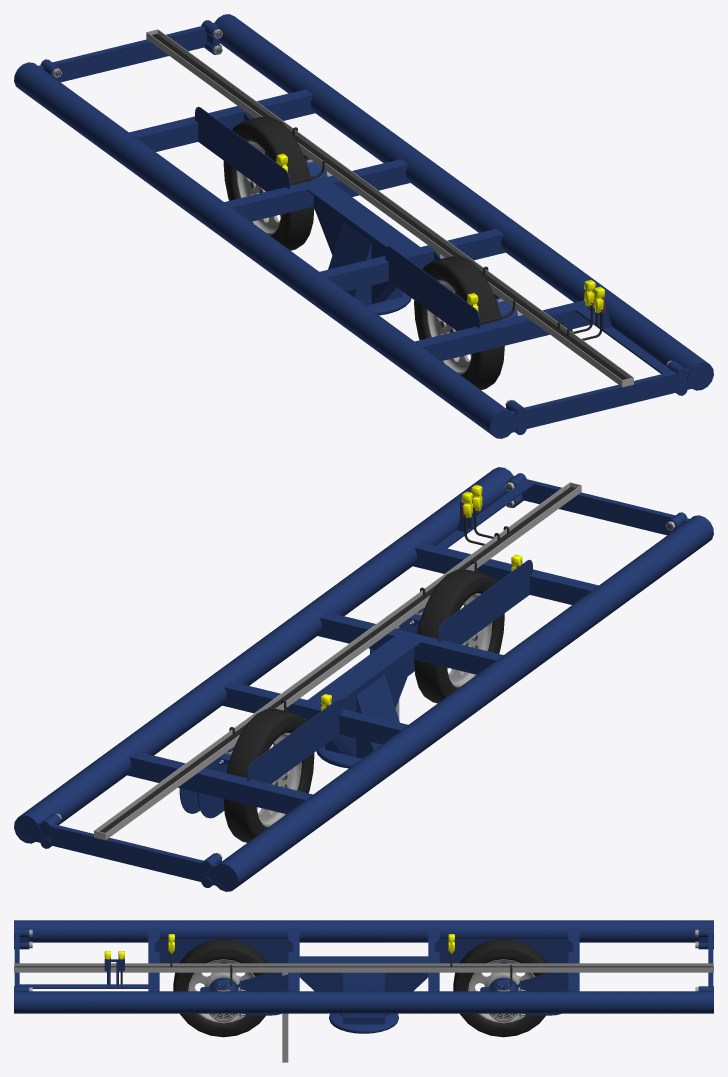
File: Transport (Start Sensor).dae
3 renders of one model, top to bottom at view 1: azimuth 30°, elevation 25°; view 2: azimuth 150°, elevation 25°; view 3: azimuth 270°, elevation 25°, orthographic. The views are drawn at different scales.
Visible parts, largest first — view 1: Track (×7), Mid_Detail (×4), High_Detail (×3), wheel0, wheel1; view 2: Track (×7), Mid_Detail (×4), High_Detail (×4), wheel0, wheel1; view 3: Track (×10), Mid_Detail (×4), High_Detail (×4), wheel0 (×3), wheel1 (×3).
Boxes of the visible parts, box(x1,y1,x2,y2) form: Track (×7): box(14, 14, 713, 438); Mid_Detail (×4): box(146, 29, 633, 387); High_Detail (×3): box(153, 33, 672, 379); wheel0: box(414, 256, 504, 389); wheel1: box(223, 116, 314, 250); Track (×7): box(14, 467, 713, 891); Mid_Detail (×4): box(94, 482, 581, 840); High_Detail (×4): box(100, 481, 574, 832); wheel0: box(414, 569, 504, 703); wheel1: box(223, 709, 314, 842); Track (×10): box(14, 920, 713, 1033); Mid_Detail (×4): box(14, 939, 713, 1062); High_Detail (×4): box(14, 959, 713, 1016); wheel0 (×3): box(173, 939, 269, 1037); wheel1 (×3): box(453, 939, 549, 1037).
Size of the model in its own units: 53.48 by 197 by 37.52.
Materials: 9 (3 with a texture image).
